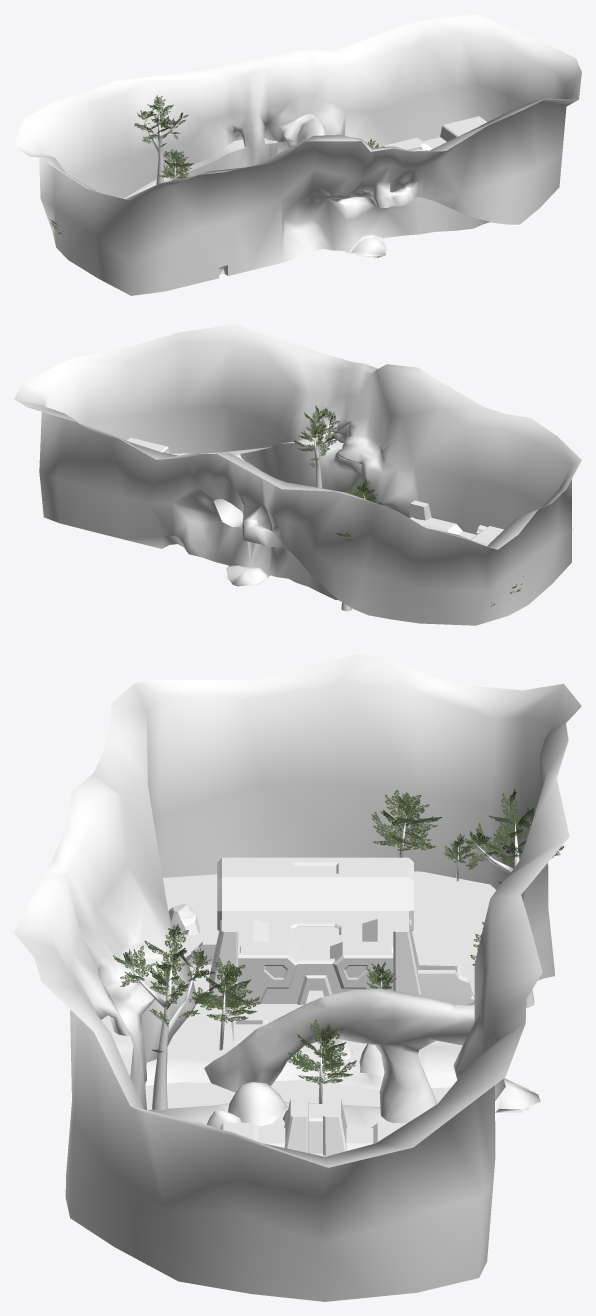
File: Beaver Creek.glb
3 views of the same model, one above another, from view 1: azimuth 30°, elevation 25°; view 2: azimuth 150°, elevation 25°; view 3: azimuth 270°, elevation 25° (orthographic). The views are drawn at different scales.
Visible parts, largest first — view 1: beavercreek; view 2: beavercreek; view 3: beavercreek.
Part boxes in pixels (x1,y1,x2,y2): beavercreek: (14,14,581,295); beavercreek: (14,324,581,625); beavercreek: (14,654,581,1301).
Size of the model in its own units: 142 by 37.98 by 70.38.
Materials: 20 (3 with a texture image).
